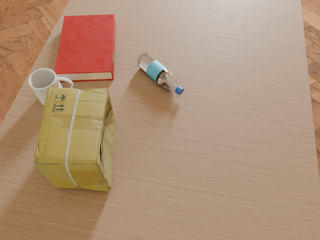book: (54, 14, 116, 82)
bottle: (137, 53, 184, 95)
box: (34, 87, 115, 191)
cup: (28, 68, 73, 105)
